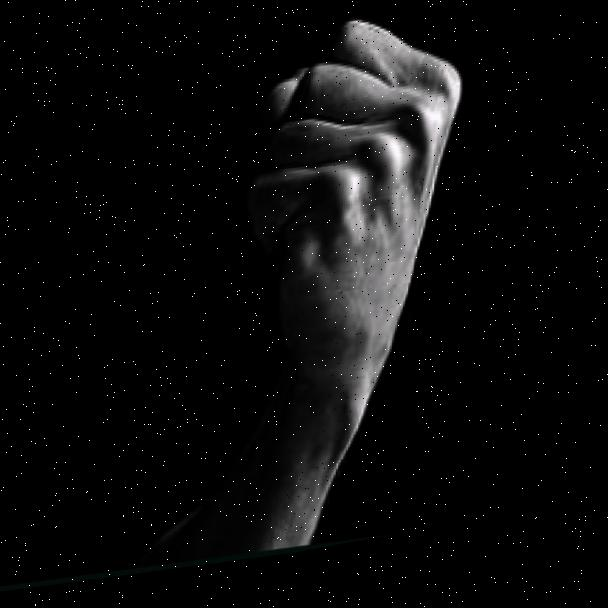five: (229, 0, 472, 456)
